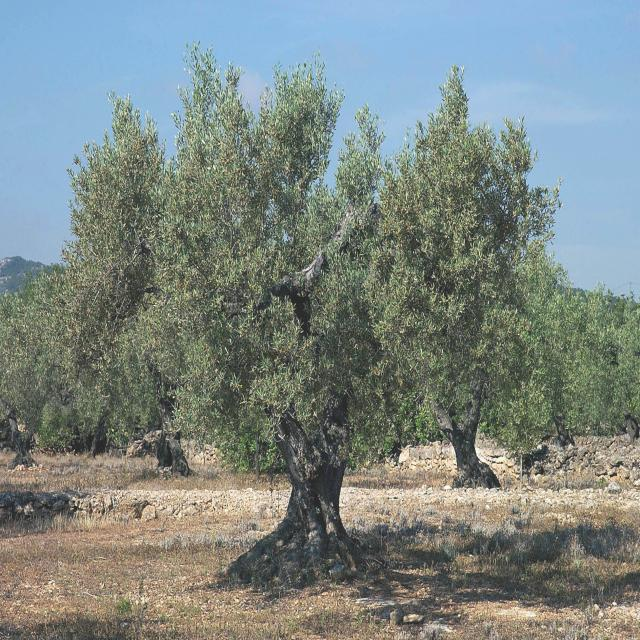olivo: (93, 51, 497, 599), (431, 61, 625, 486), (0, 101, 191, 479)
